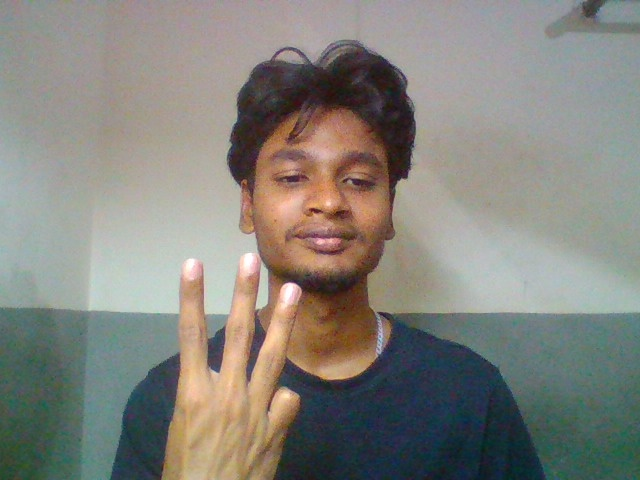W: (138, 245, 322, 480)
